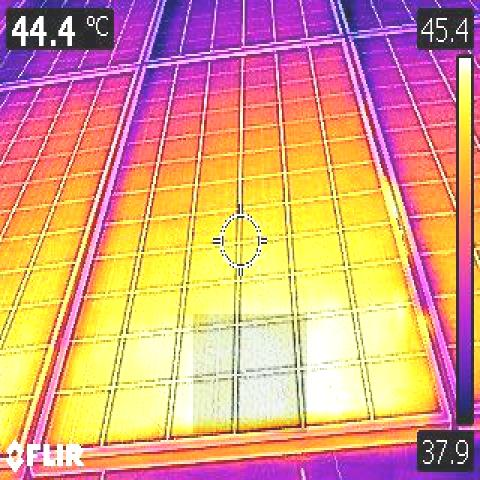fault: (193, 314, 307, 433)
